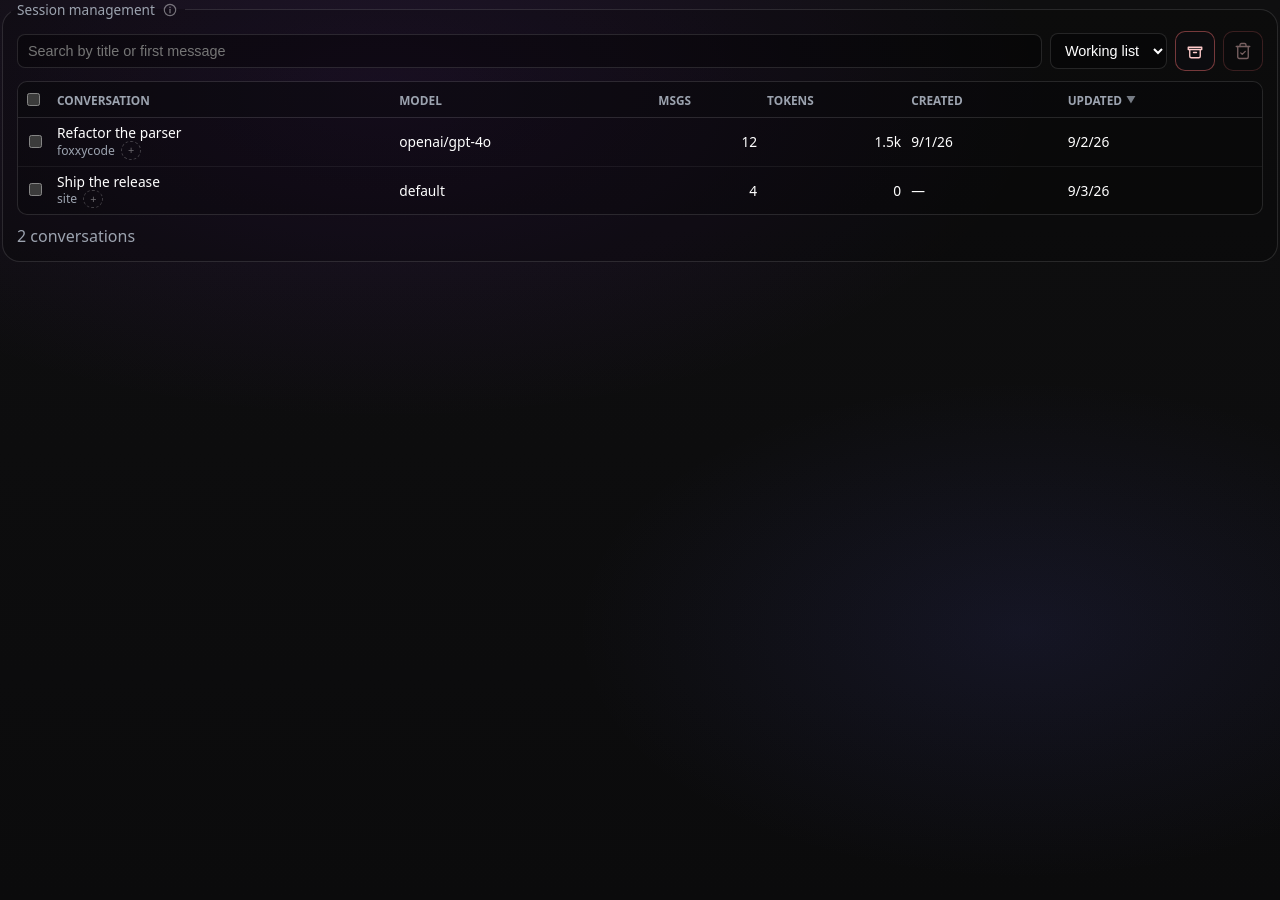
Test: the deleted ids are reported to the shell and the list re-reads
Expected: the row with test id "sessions-manager-row-sess_one" is shown, [18,118,1262,166]
Click the checkbox with test id "sessions-manager-pick-sess_one". click: click(36, 141)
box: [29,135,42,148]
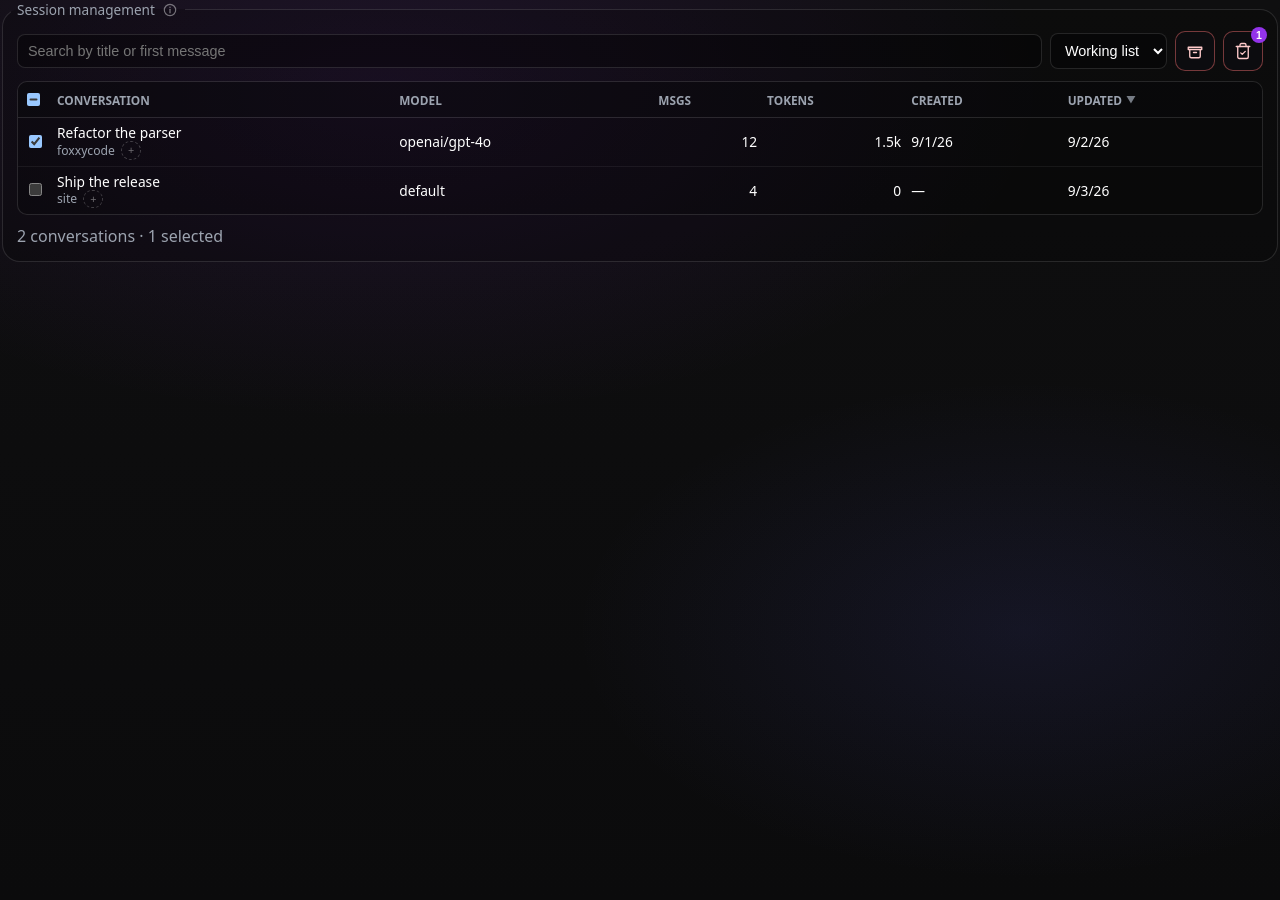
Click the button with test id "sessions-manager-delete-selected". click: click(1243, 51)
box: [1223,31,1263,71]
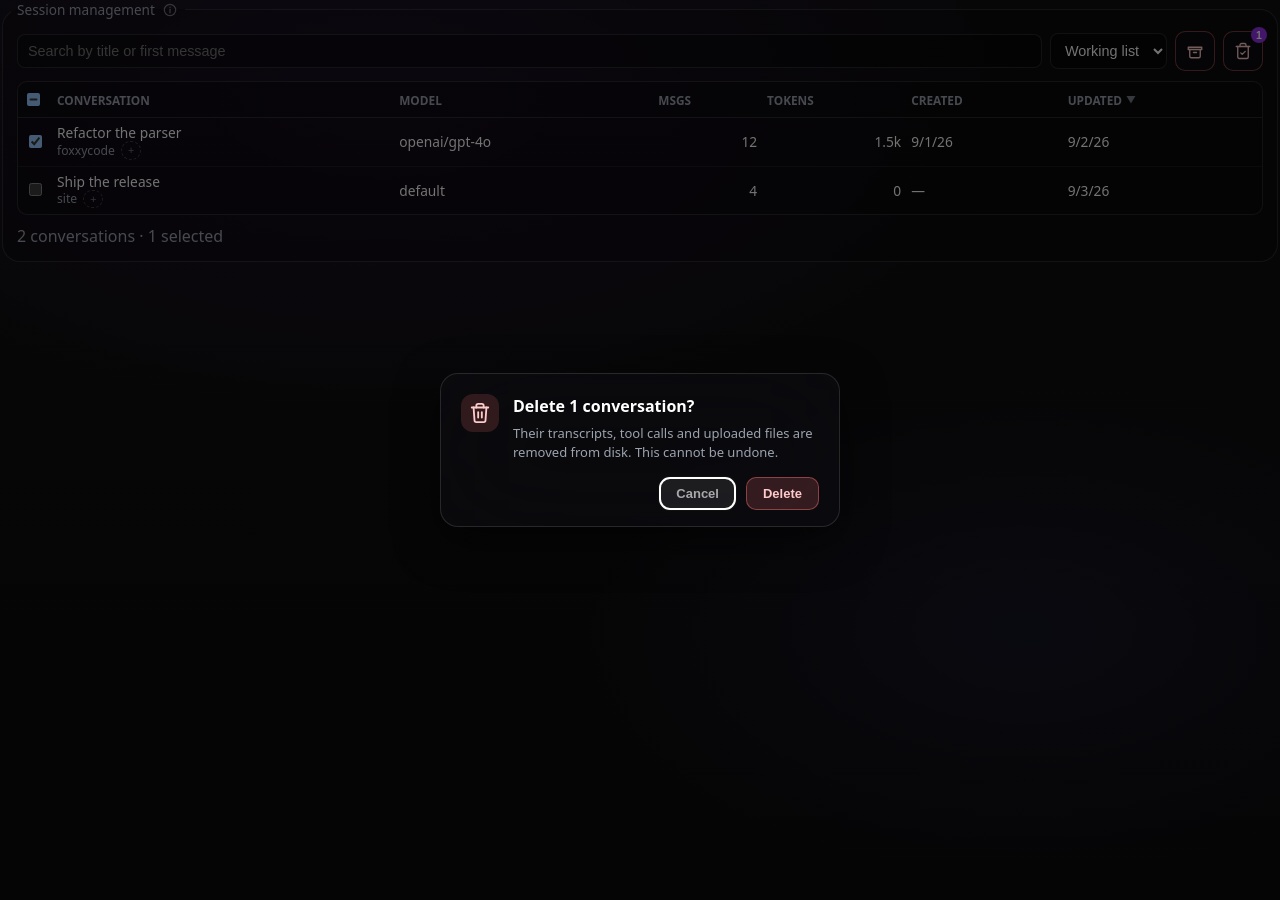
Click the button "Delete". click: click(782, 493)
box: [746,476,819,510]
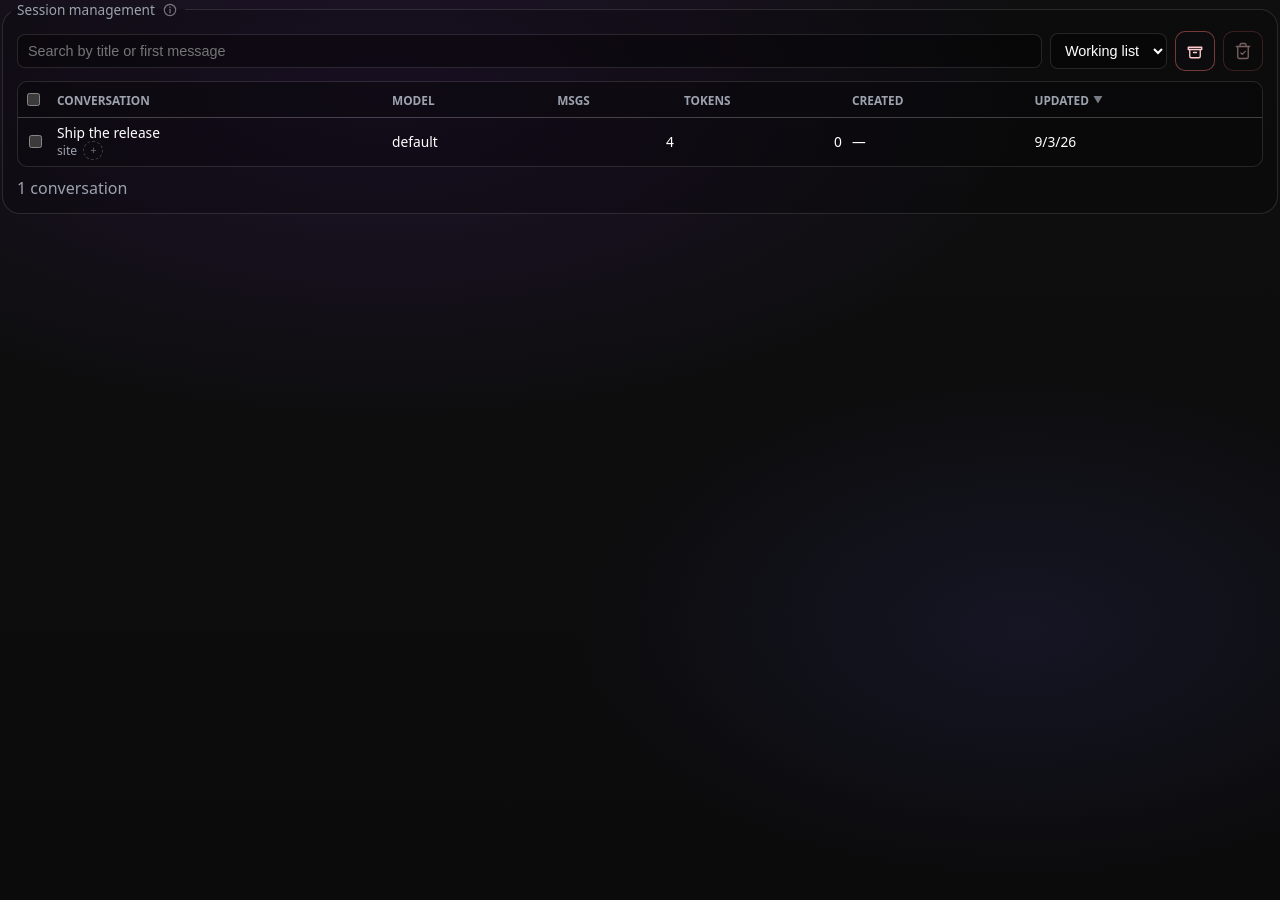
Result: the row with test id "sessions-manager-row-sess_one" is gone
